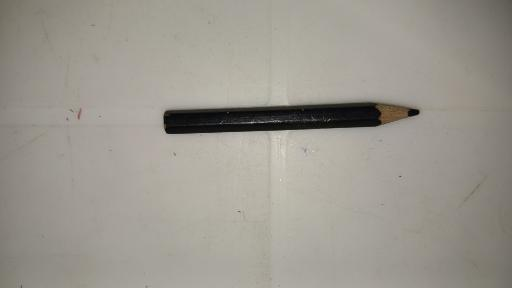Pencil: (162, 102, 421, 137)
